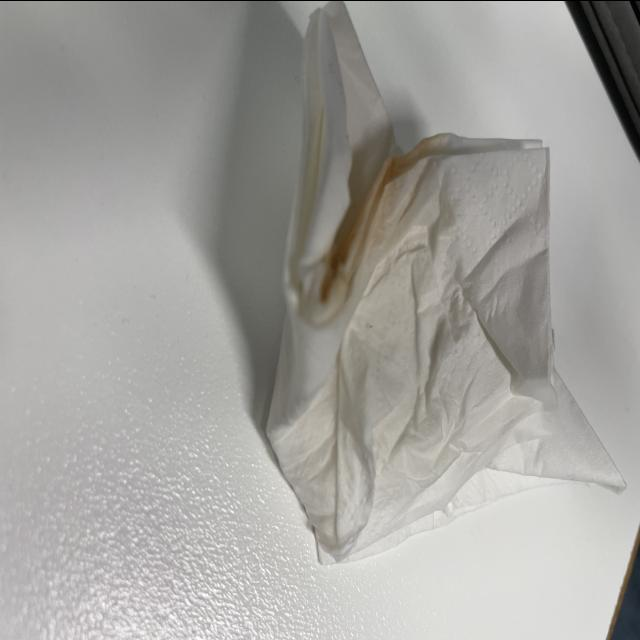organic waste: (263, 0, 627, 574)
